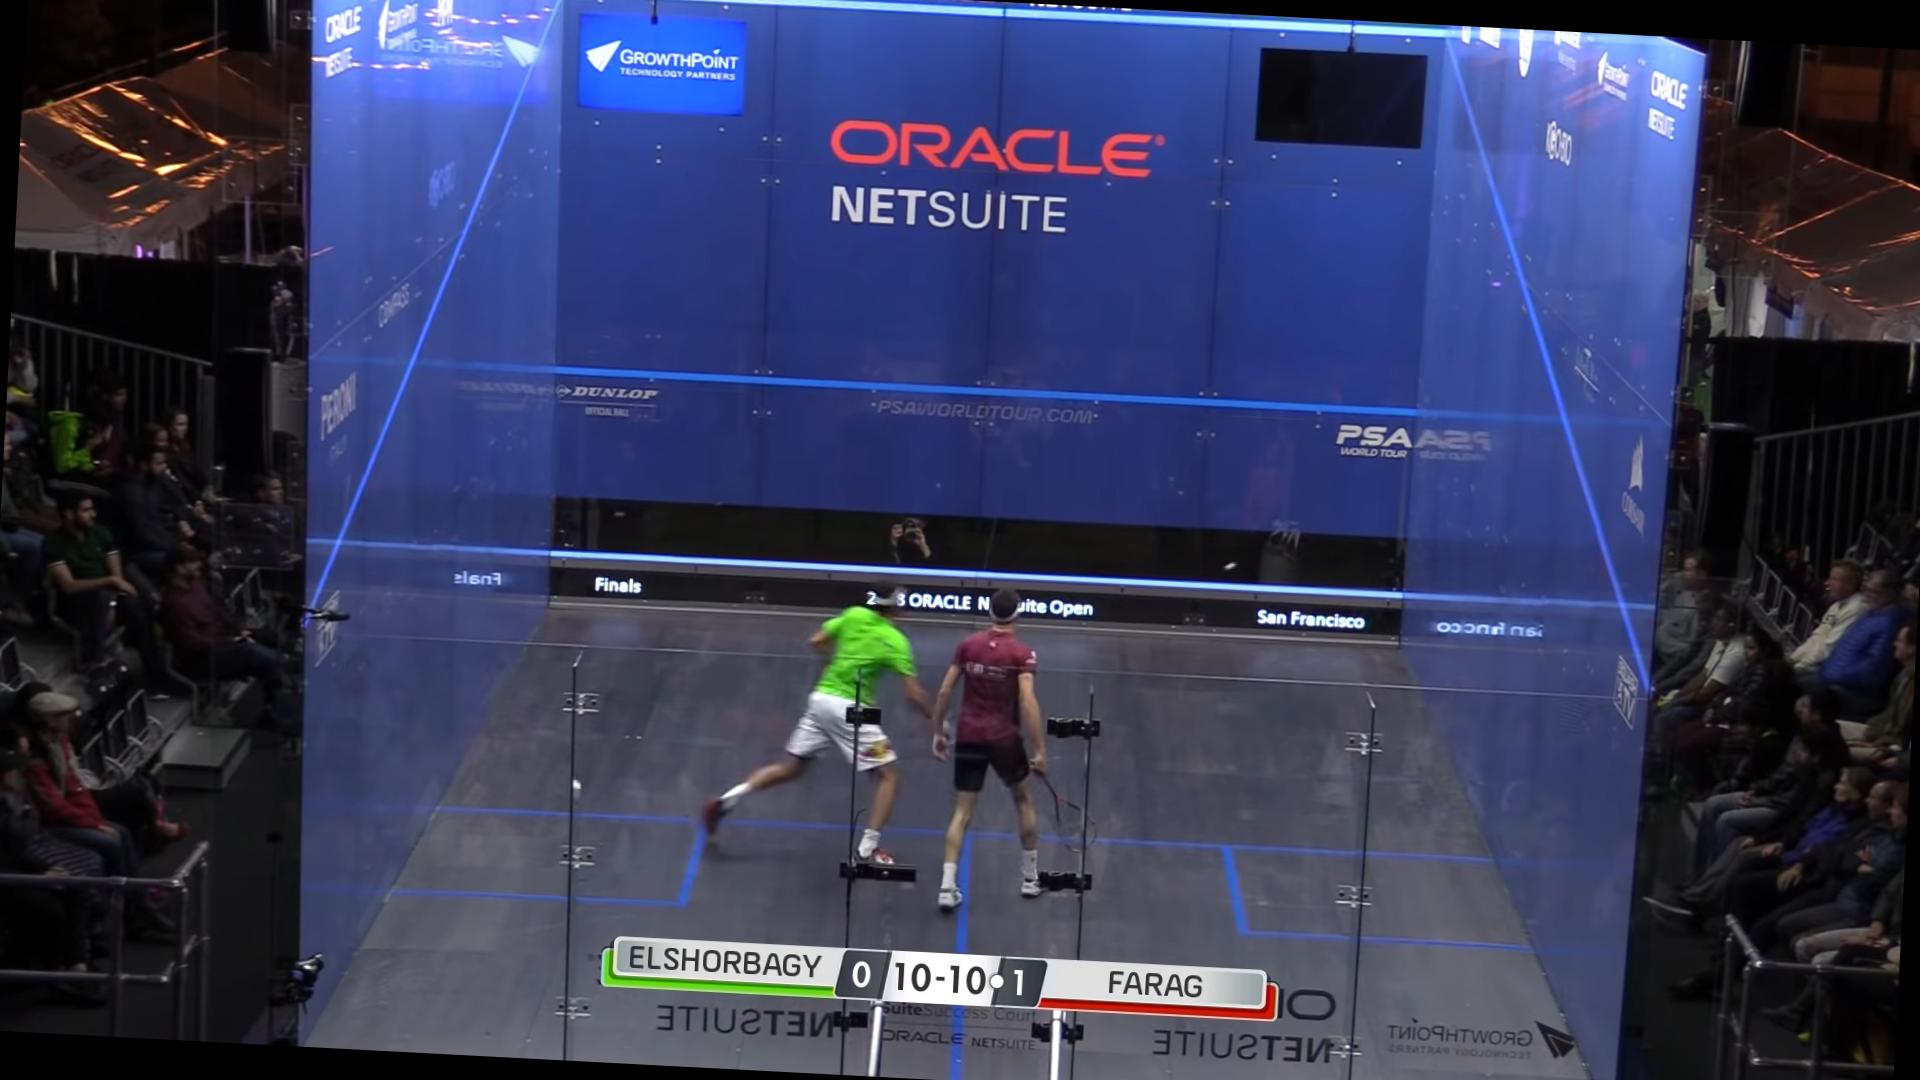Squash-Ball: (1222, 551, 1244, 579)
